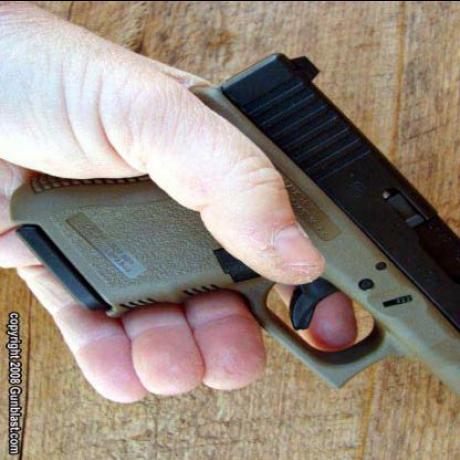1: (0, 0, 362, 402)
weapon: (11, 49, 459, 397)
